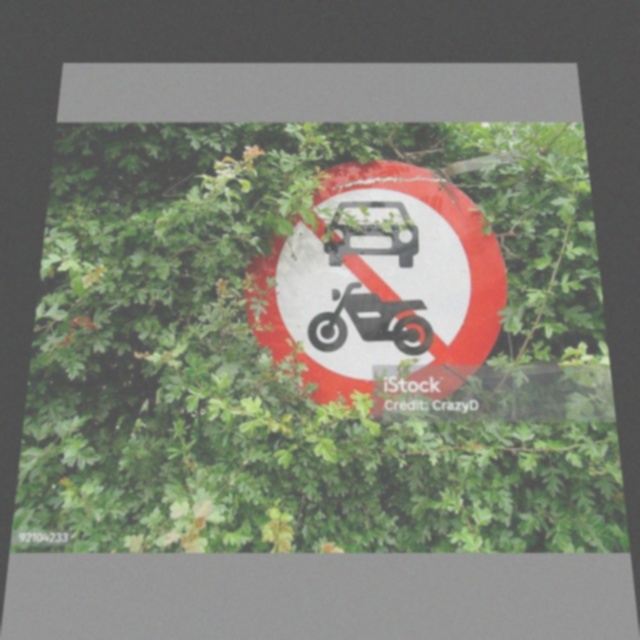All_Motor_Vehicles_Prohibited: (243, 160, 516, 419)
